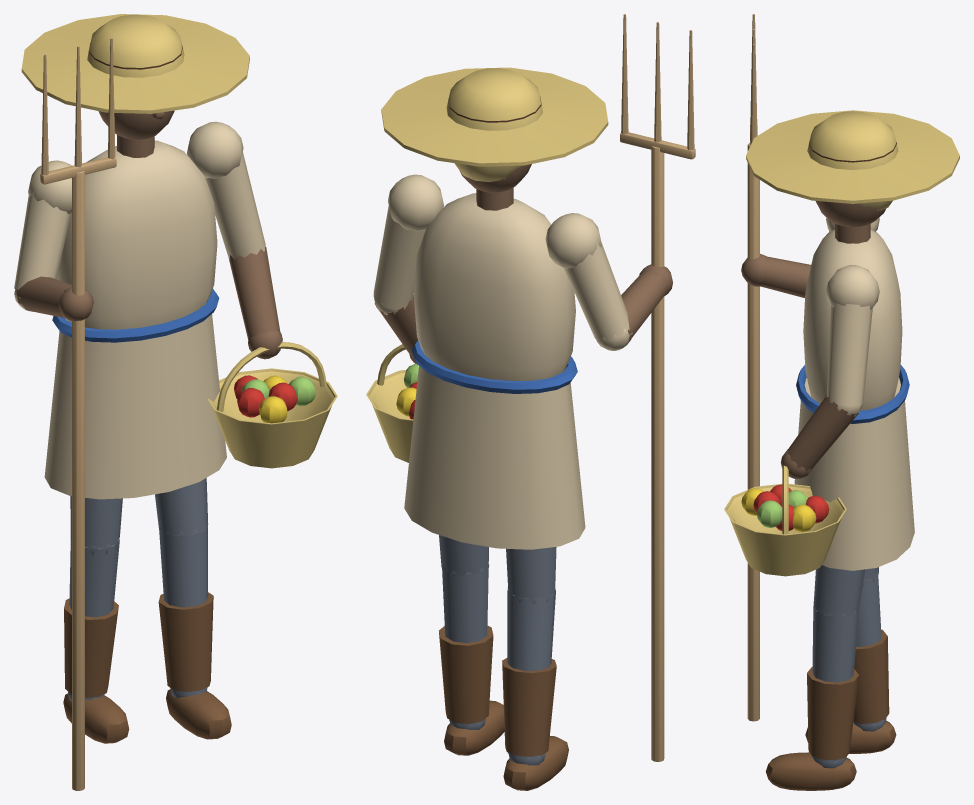
The model's file is ironhold_farmer.glb.
3 renders of one model, left to right at view 1: azimuth 30°, elevation 25°; view 2: azimuth 150°, elevation 25°; view 3: azimuth 270°, elevation 25°, orthographic. The views are drawn at different scales.
Parts seen in each view (by area): view 1: Ironhold_Farmer; view 2: Ironhold_Farmer; view 3: Ironhold_Farmer.
Boxes of the visible parts, box(x1,y1,x2,y2) form: Ironhold_Farmer: box(14, 14, 337, 790); Ironhold_Farmer: box(366, 14, 695, 790); Ironhold_Farmer: box(724, 14, 959, 790).
Bounding box in the file's own units: 0.825 × 1.92 × 0.595.
